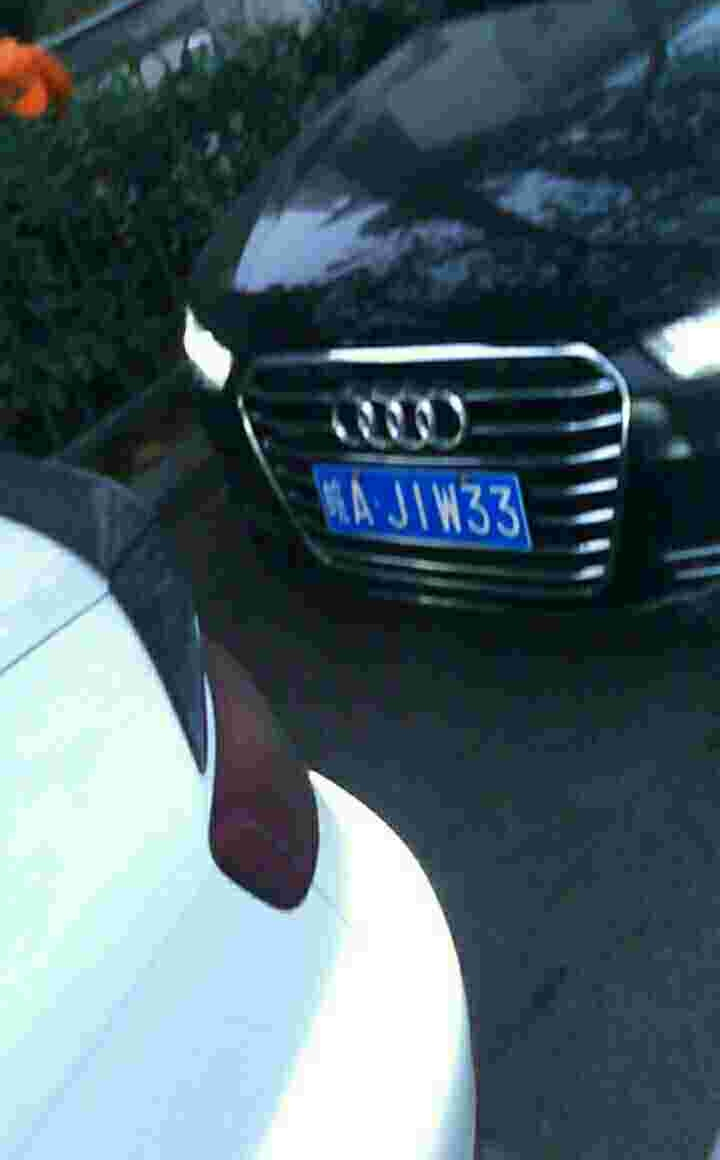plate: (304, 458, 537, 553)
